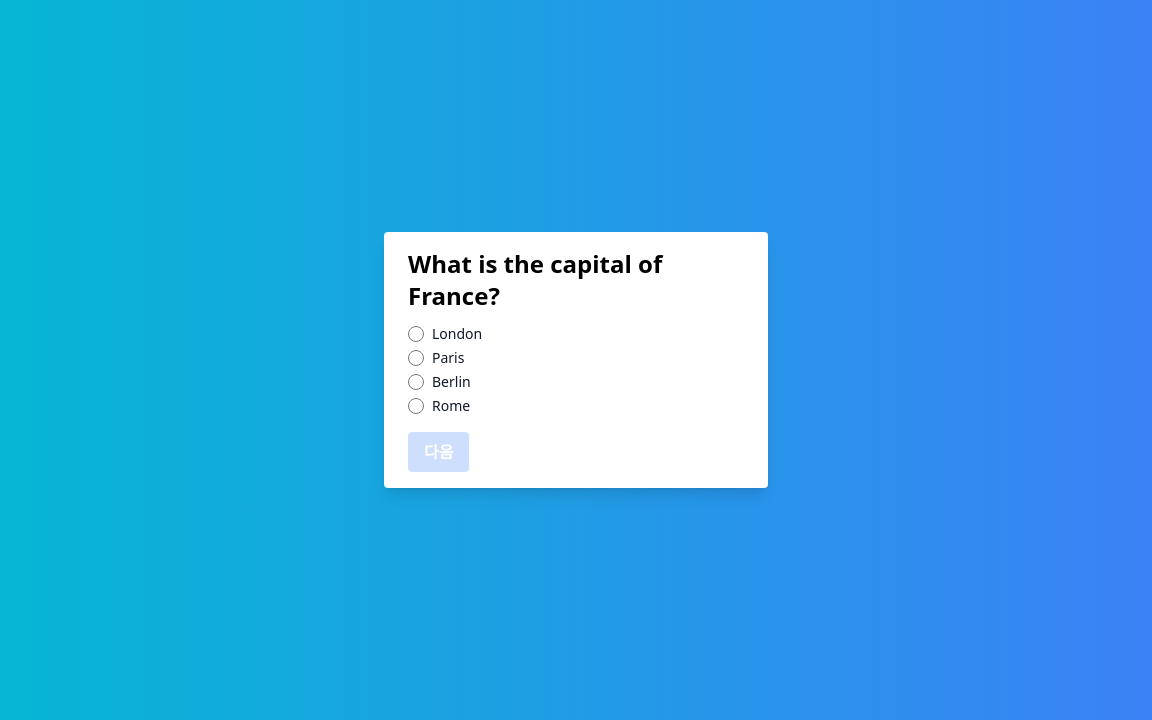
QuizForm 의 기본동작 테스트 › 답안이 선택되면 다음버튼 활성화
Click the text "Paris": (448, 358) [432,348,464,368]
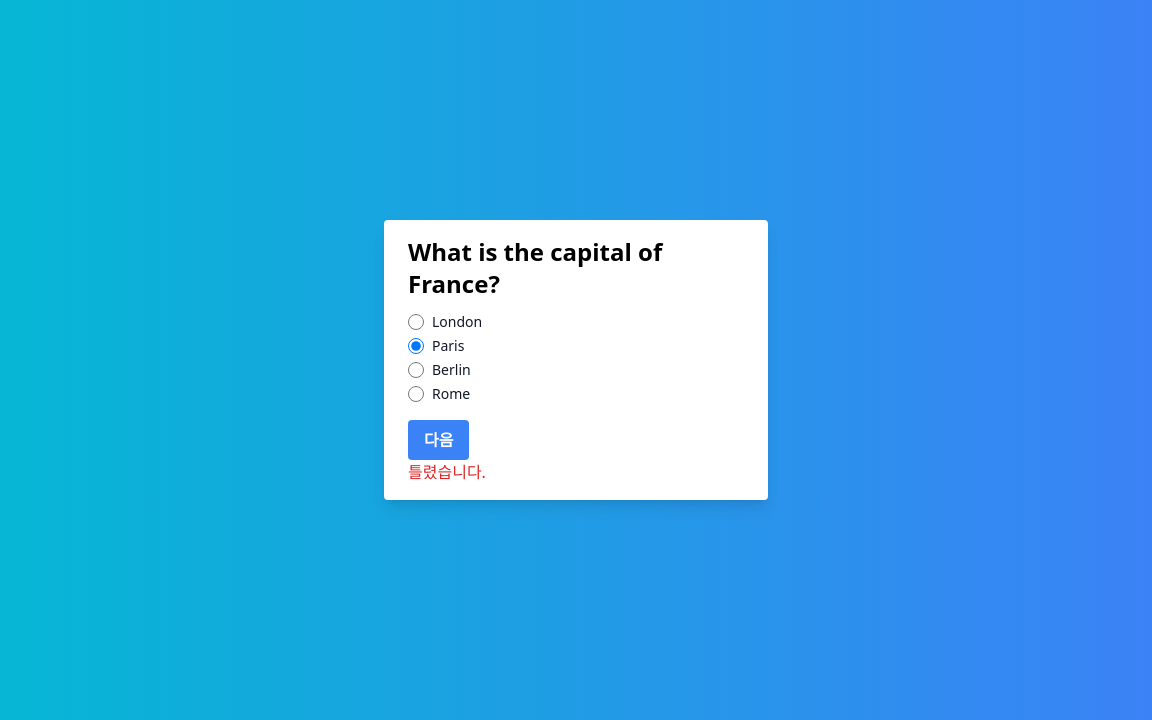
Expected: the button "다음" is enabled, [408,420,470,460]
